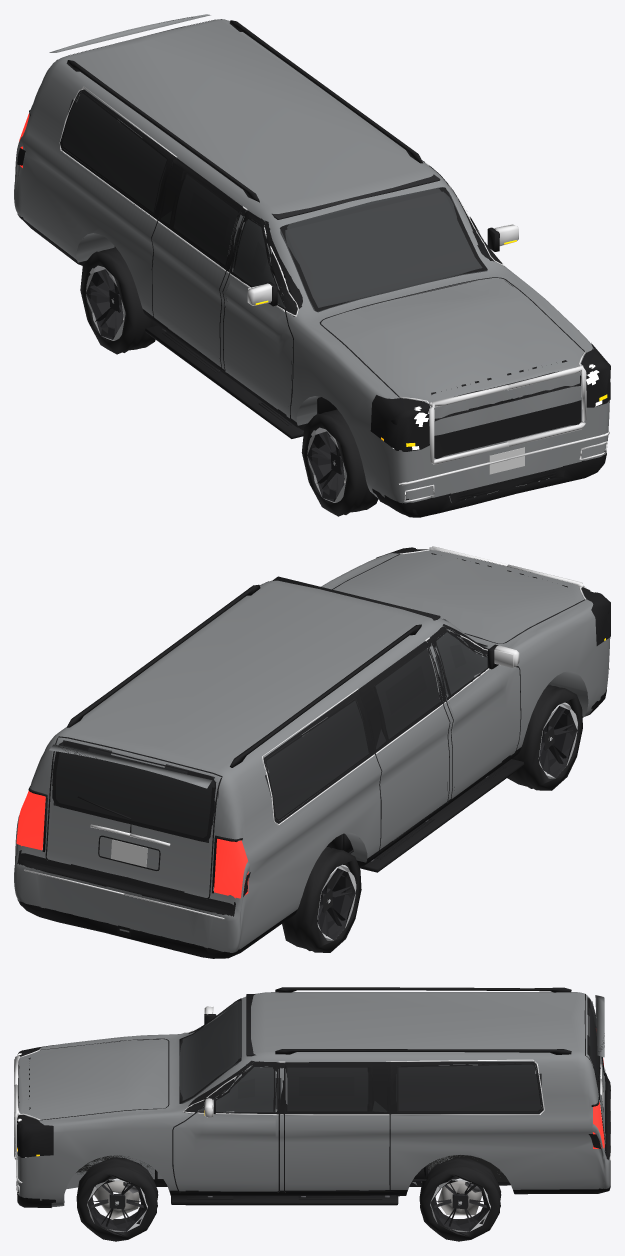
File: fullSizeSuv-lod1.glb
3 renders of one model, top to bottom at view 1: azimuth 30°, elevation 25°; view 2: azimuth 150°, elevation 25°; view 3: azimuth 270°, elevation 25°, orthographic. The views are drawn at different scales.
Parts seen in each view (by area): view 1: Body, HoodSkin, Body_Trim, Body_Lining, Panel_RR, Panel_FR, Window_RR, Wheel_RR_Tyre, Wheel_FR_Tyre, Step_R, Wheel_RR_Lip, Wheel_FR_Lip (+10 smaller); view 2: Body, TrunkSkin, HoodSkin, Body_Trim, Panel_RR, Panel_FR, Wheel_RR_Tyre, Window_RR, Wheel_FR_Tyre, TrunkSkin_Trim, Body_Lining, Step_R (+11 smaller); view 3: Body, HoodSkin, Panel_RL, Panel_FL, Body_Trim, Body_Lining, Window_RL, Wheel_FL_Tyre, Wheel_RL_Tyre, Step_L, Panel_RL_Trim, Window_FL (+14 smaller).
Part boxes in pixels (x1,y1,x2,y2): Body: (14, 19, 609, 516); HoodSkin: (321, 278, 584, 402); Body_Trim: (17, 89, 610, 517); Body_Lining: (63, 94, 512, 402); Panel_RR: (152, 164, 224, 366); Panel_FR: (225, 243, 292, 416); Window_RR: (173, 174, 239, 265); Wheel_RR_Tyre: (80, 247, 157, 354); Wheel_FR_Tyre: (301, 409, 378, 516); Step_R: (145, 325, 303, 438); Wheel_RR_Lip: (86, 265, 125, 340); Wheel_FR_Lip: (307, 427, 346, 502); Body: (14, 553, 610, 954); TrunkSkin: (47, 739, 219, 897); HoodSkin: (334, 550, 584, 643); Body_Trim: (16, 547, 610, 958); Panel_RR: (362, 688, 447, 849); Panel_FR: (438, 635, 519, 796); Wheel_RR_Tyre: (282, 847, 361, 952); Window_RR: (374, 648, 440, 738); Wheel_FR_Tyre: (507, 684, 582, 790); TrunkSkin_Trim: (45, 736, 222, 899); Body_Lining: (267, 632, 487, 842); Step_R: (359, 759, 524, 872); Body: (17, 992, 610, 1207); HoodSkin: (18, 1039, 168, 1119); Panel_RL: (287, 1067, 389, 1190); Panel_FL: (175, 1066, 275, 1190); Body_Trim: (16, 998, 610, 1207); Body_Lining: (100, 1002, 539, 1190); Window_RL: (287, 1067, 368, 1111); Wheel_FL_Tyre: (76, 1157, 158, 1241); Wheel_RL_Tyre: (419, 1157, 501, 1241); Step_L: (171, 1195, 398, 1205); Panel_RL_Trim: (284, 1062, 390, 1192); Window_FL: (199, 1065, 275, 1113).
Size of the model in its own units: 2.31 by 1.92 by 5.74.
